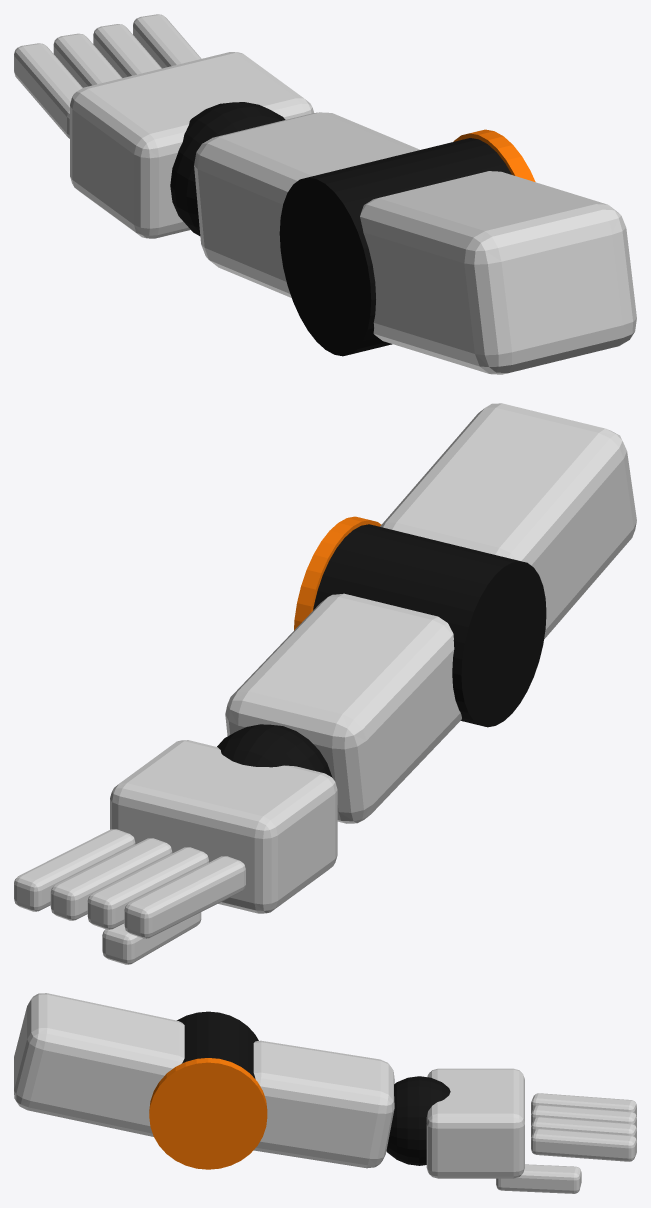
Rendered from right_arm_full_visual.obj.
3 views of the same model, one above another, from view 1: azimuth 30°, elevation 25°; view 2: azimuth 150°, elevation 25°; view 3: azimuth 270°, elevation 25° (orthographic). The views are drawn at different scales.
Bounding box in the file's own units: 0.0952 × 0.1331 × 0.4426.
